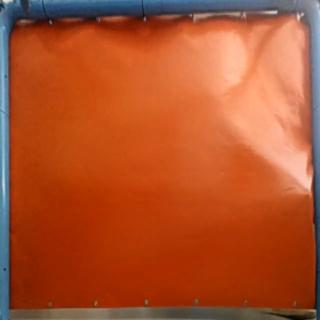Hit-hRxx: (302, 185, 313, 202)
